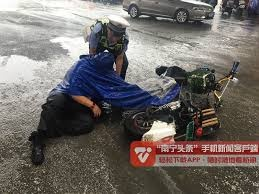falling: (26, 48, 116, 164)
